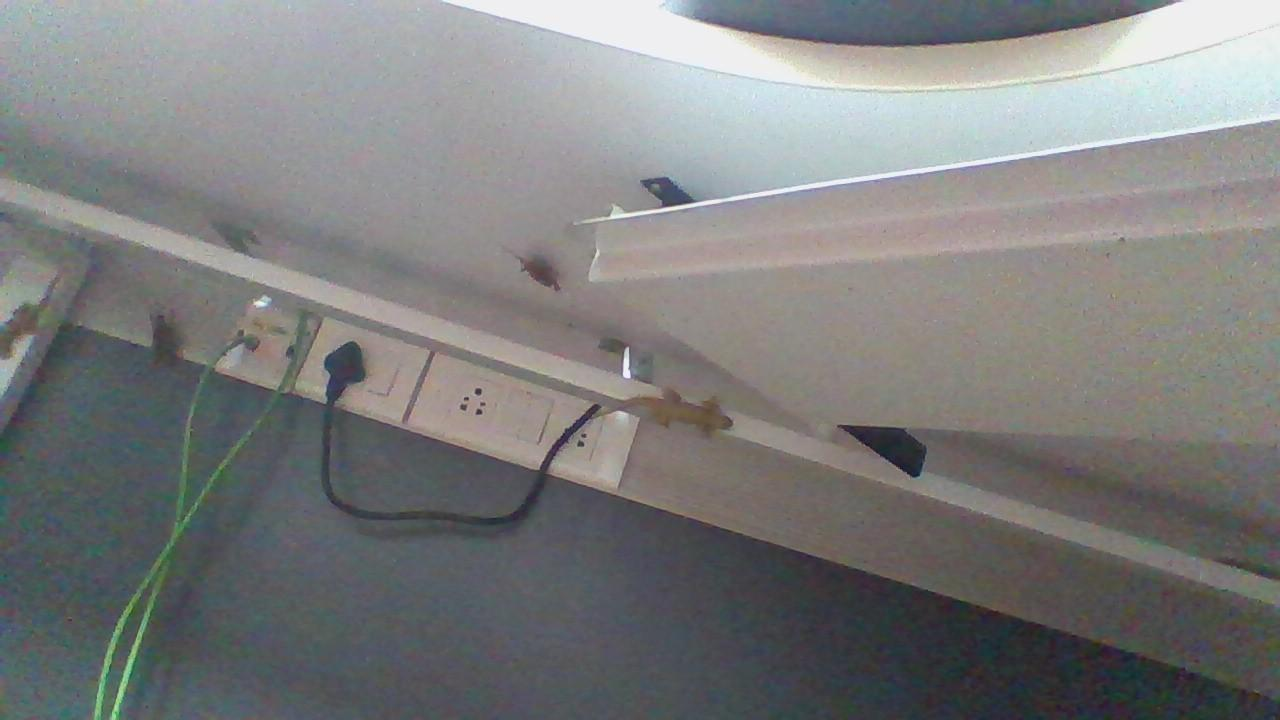cockroach: (142, 292, 204, 402), (495, 247, 581, 311)
lizard: (583, 376, 762, 454), (0, 246, 59, 384)
